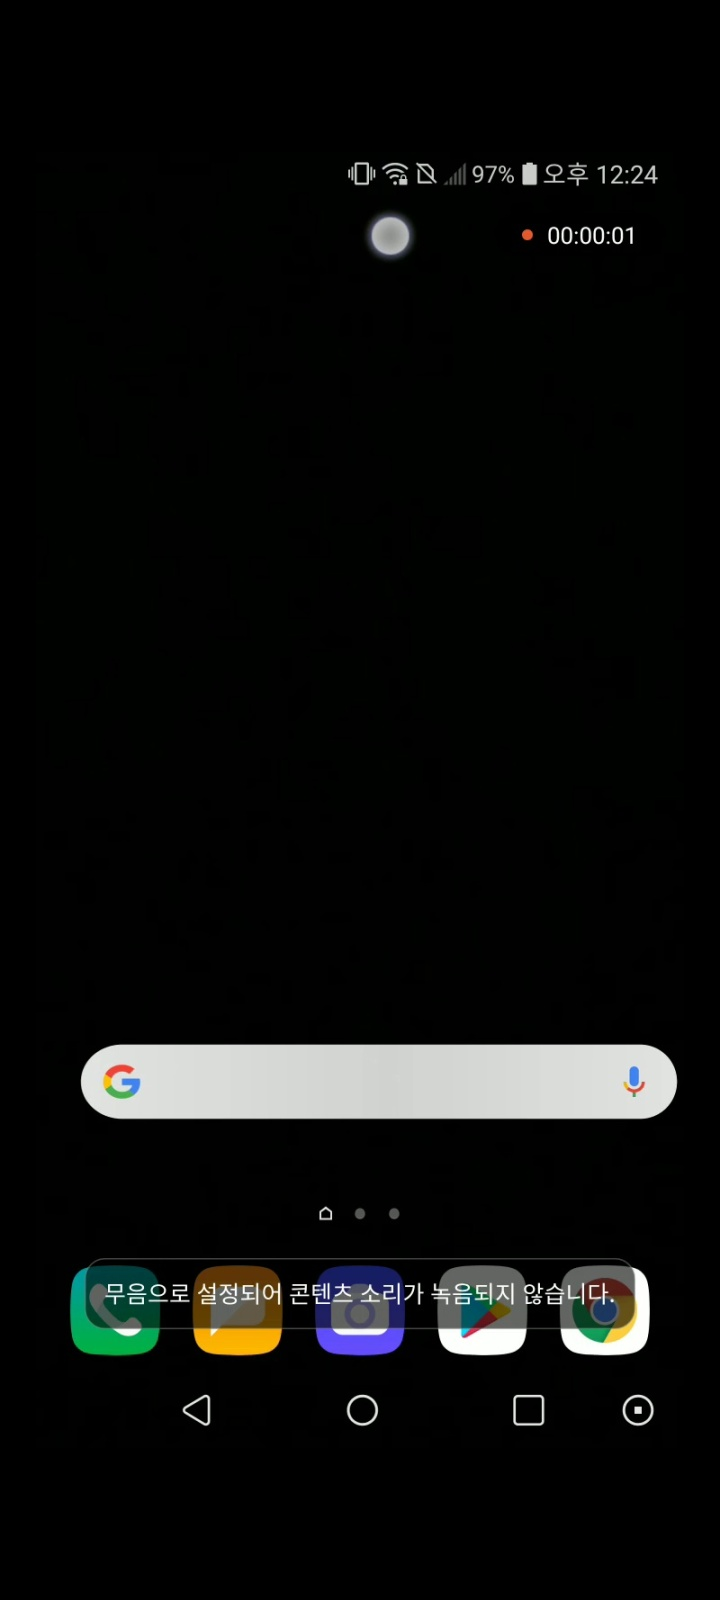Cursor: (369, 214, 414, 260)
